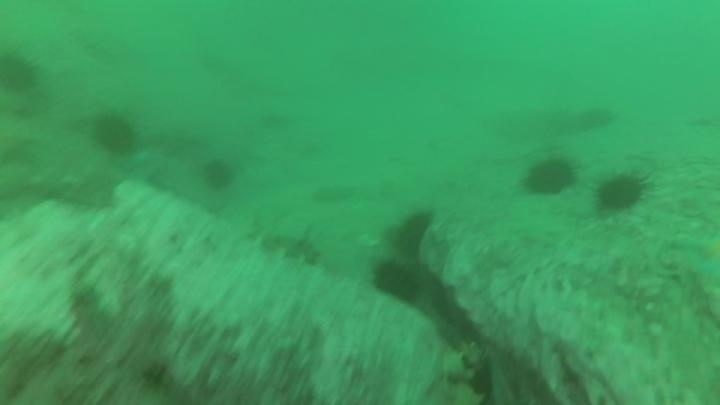echinus: (520, 154, 579, 199), (593, 169, 650, 215), (388, 209, 436, 261), (370, 258, 423, 305), (89, 110, 140, 158), (0, 47, 42, 97), (200, 156, 238, 193)
holothurian: (251, 218, 327, 270), (436, 339, 491, 405)
starfish: (672, 229, 720, 286)
